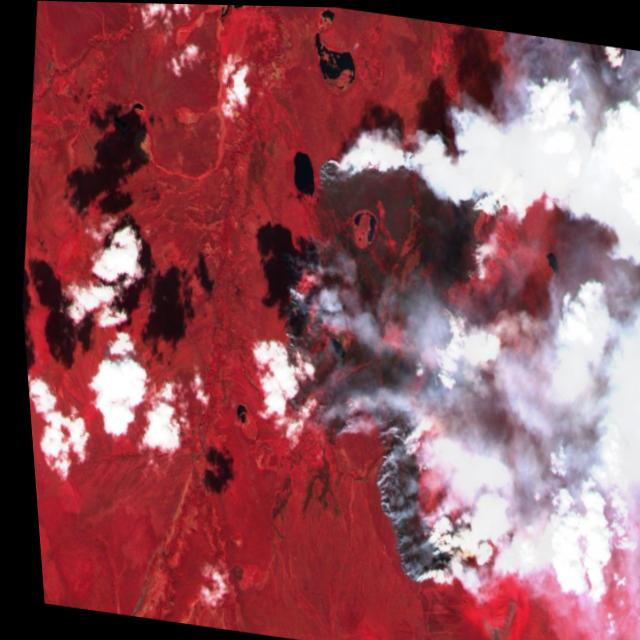fire: (226, 98, 540, 605)
